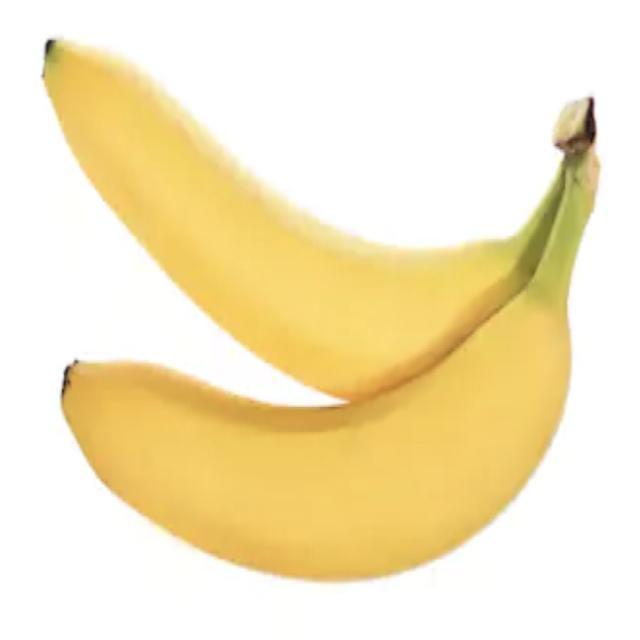Banana: (40, 35, 601, 582)
